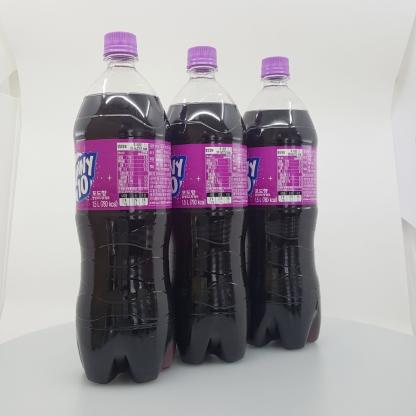-----------1-5L: (73, 32, 175, 384), (159, 46, 247, 364), (237, 56, 322, 349)
